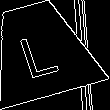L_N: (16, 22, 64, 79)
